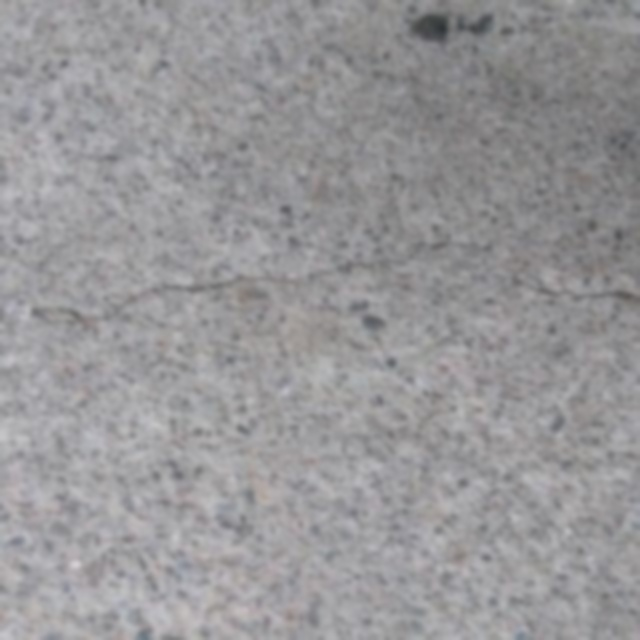SurfaceCrack: (4, 228, 640, 384)
